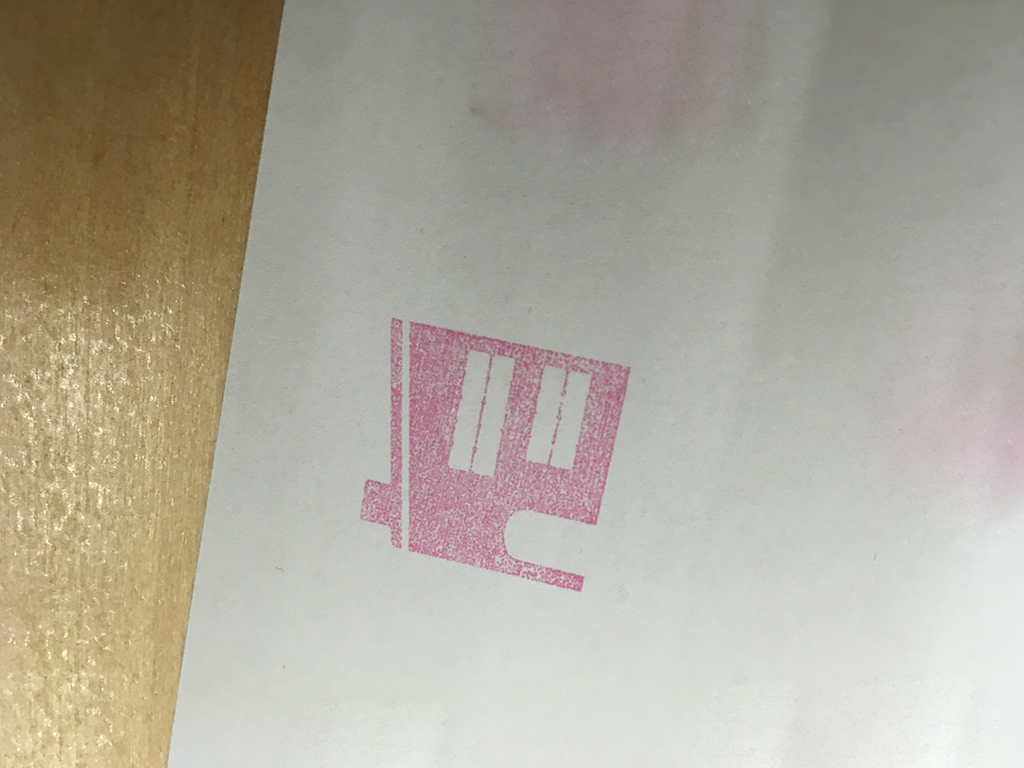house: (351, 299, 638, 602)
